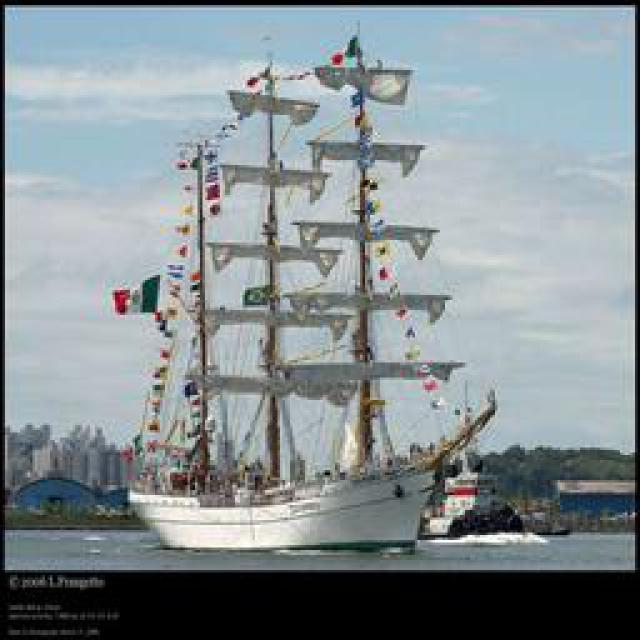Ship: (120, 38, 493, 553)
